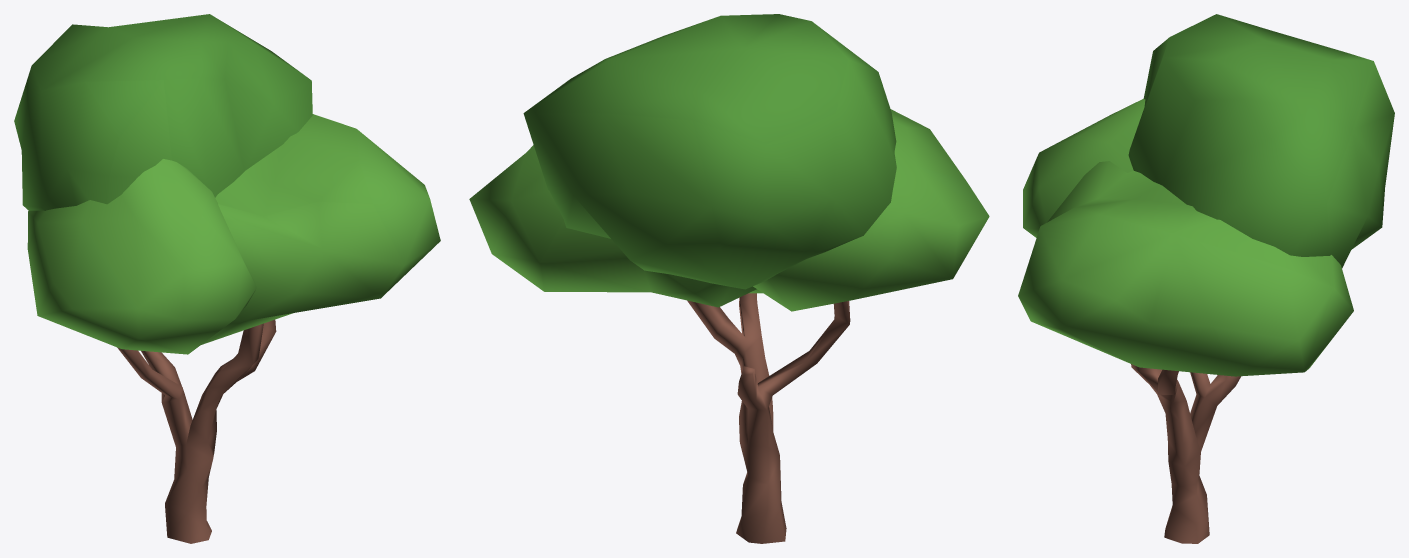
Rendered from tree_012.glb.
3 views of the same model, side by side, from view 1: azimuth 30°, elevation 25°; view 2: azimuth 150°, elevation 25°; view 3: azimuth 270°, elevation 25° (orthographic). The views are drawn at different scales.
Parts seen in each view (by area): view 1: tree_012; view 2: tree_012; view 3: tree_012.
Part boxes in pixels (x1,y1,x2,y2): tree_012: [14, 14, 440, 543]; tree_012: [469, 14, 989, 543]; tree_012: [1018, 14, 1394, 543].
Bounding box in the file's own units: 6.57 × 7.95 × 5.59.
1 material, 1 textured.
